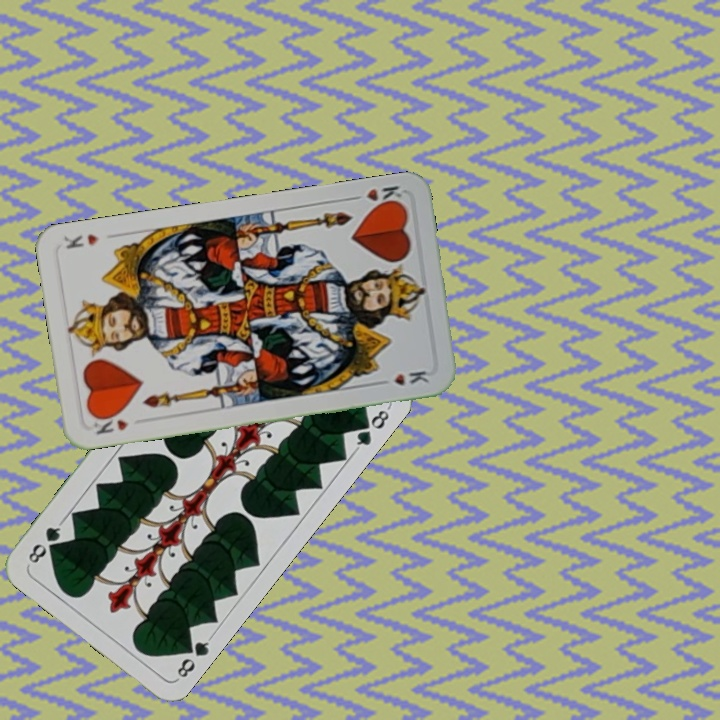G8: (173, 632, 215, 682)
HK: (346, 182, 405, 211), (89, 409, 131, 437)
